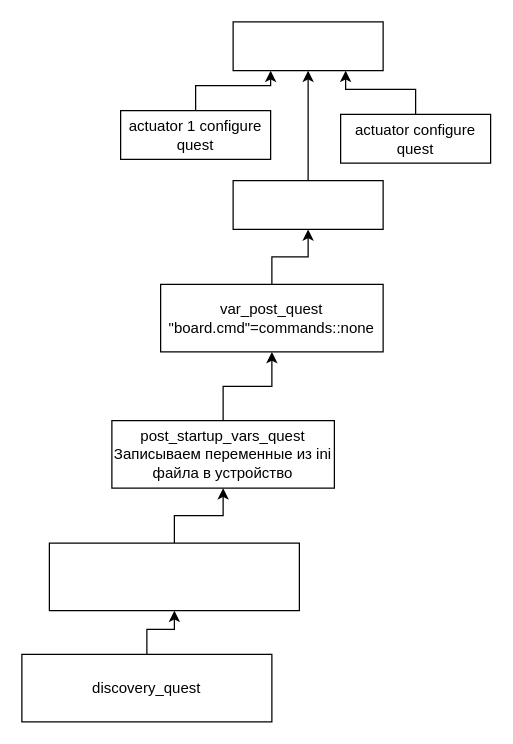
This 513x744 diagram has some shape labels left out. Each missing label, with the box of its shape:
actuator 2configure quest: (232, 179, 383, 229)
servo configure quest: (232, 21, 383, 71)
var_post_quest "board.cmd"=commands::configure: (48, 542, 299, 611)
